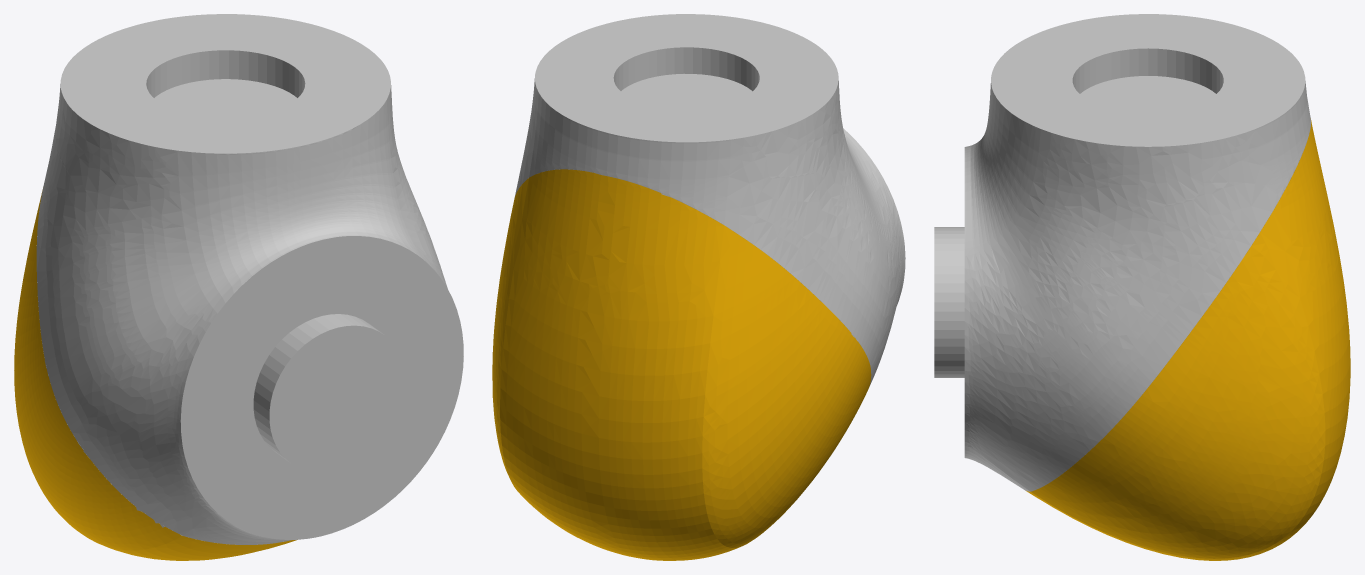
3 views of the same model, side by side, from view 1: azimuth 30°, elevation 25°; view 2: azimuth 150°, elevation 25°; view 3: azimuth 270°, elevation 25° (orthographic). The views are drawn at different scales.
Parts seen in each view (by area): view 1: link6; view 2: link6; view 3: link6.
Part boxes in pixels (box(x1,y1,x2,y2)): link6: box(14, 14, 463, 560); link6: box(492, 14, 905, 560); link6: box(934, 14, 1350, 560).
Size of the model in its own units: 0.1322 by 0.1376 by 0.1675.
